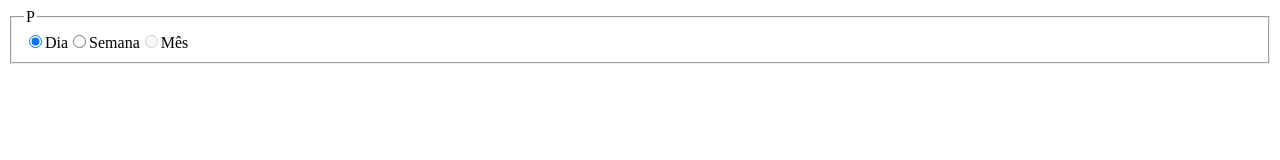
Test case: SegmentedControl › controlado
The width and height of the screenshot is (1280, 160).
What coordinates should you click on to do the following:
click the radio button labelled "Semana"
I would click on:
 (80, 41)
Its box is [73,35,86,48].
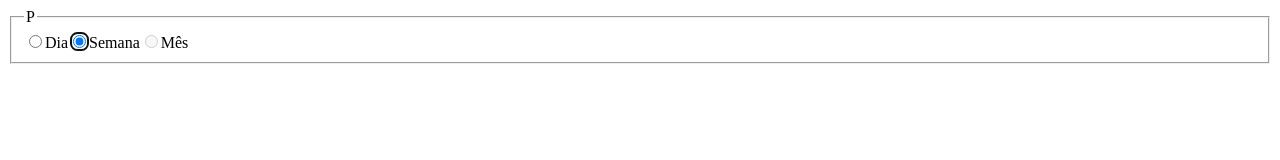
Result: the radio button labelled "Semana" is checked at [73,35,86,48]
